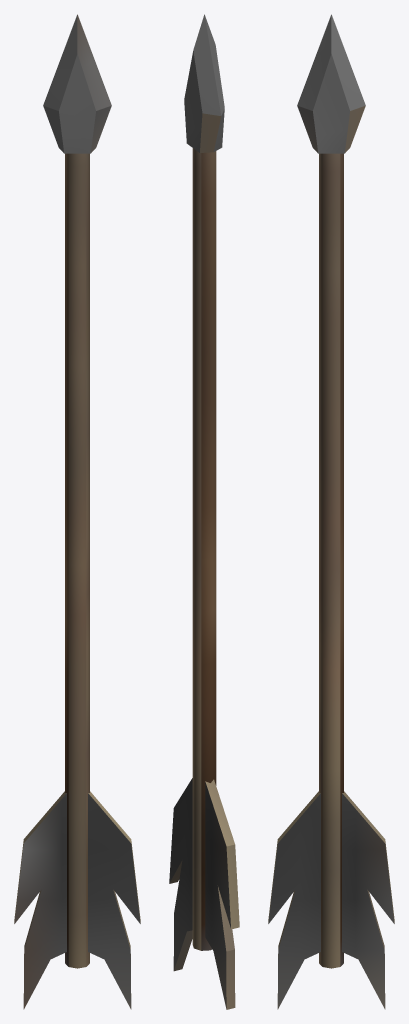
The model's file is Asset_03_arrow_v001.obj.
The picture shows the model from 3 angles, left to right: view 1: azimuth 90°, elevation 25°; view 2: azimuth 210°, elevation 25°; view 3: azimuth 270°, elevation 25°; orthographic projection.
Visible parts, largest first — view 1: Asset_3_arrow_low; view 2: Asset_3_arrow_low; view 3: Asset_3_arrow_low.
Part boxes in pixels (bbox=[...]): Asset_3_arrow_low: bbox=[14, 14, 140, 1009]; Asset_3_arrow_low: bbox=[169, 14, 239, 1009]; Asset_3_arrow_low: bbox=[268, 14, 394, 1009].
Bounding box in the file's own units: 0.0258 × 1.07 × 0.1238.
